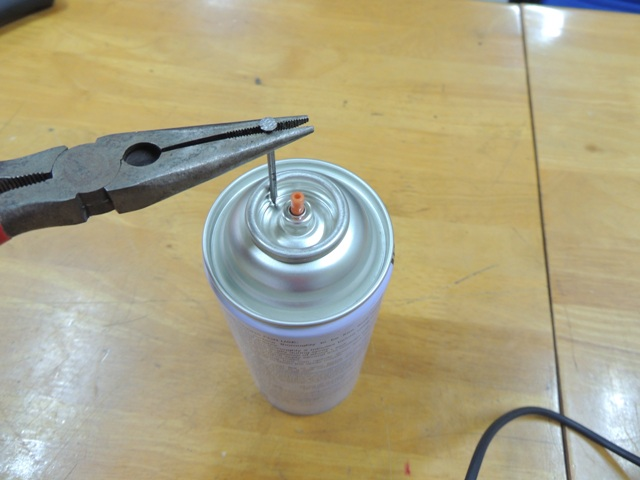Aerosol_cans: (199, 155, 400, 422)
